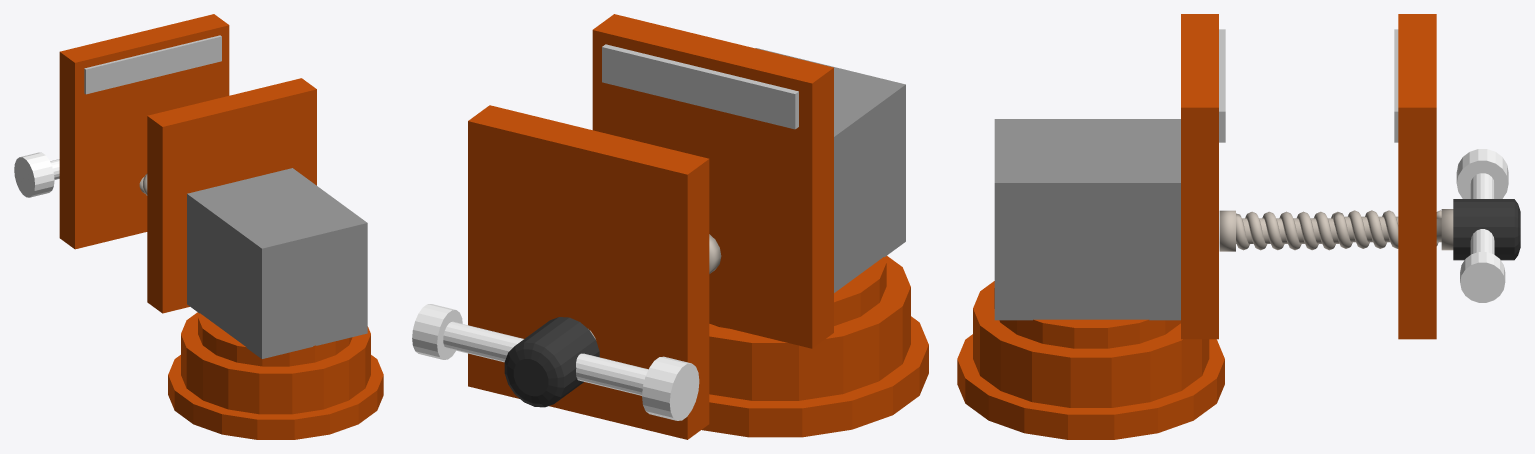
The model's file is prensa.fbx.
3 renders of one model, left to right at view 1: azimuth 30°, elevation 25°; view 2: azimuth 150°, elevation 25°; view 3: azimuth 270°, elevation 25°, orthographic. The views are drawn at different scales.
Visible parts, largest first — view 1: Prensa1, Prensa4, Prensa6, Prensa5, Prensa2; view 2: Prensa1, Prensa6, Prensa4, Prensa2, Prensa5, Prensa3; view 3: Prensa4, Prensa6, Prensa1, Prensa2, Prensa3, Prensa5.
Boxes of the visible parts, x1=… form: Prensa1: x1=59, y1=14, x2=316, y2=313; Prensa4: x1=187, y1=168, x2=367, y2=358; Prensa6: x1=168, y1=312, x2=383, y2=439; Prensa5: x1=84, y1=35, x2=221, y2=94; Prensa2: x1=14, y1=152, x2=147, y2=197; Prensa1: x1=468, y1=14, x2=833, y2=439; Prensa6: x1=702, y1=256, x2=928, y2=437; Prensa4: x1=755, y1=48, x2=905, y2=292; Prensa2: x1=412, y1=234, x2=721, y2=420; Prensa5: x1=602, y1=44, x2=798, y2=129; Prensa3: x1=504, y1=317, x2=599, y2=407; Prensa4: x1=994, y1=119, x2=1180, y2=320; Prensa6: x1=957, y1=281, x2=1224, y2=439; Prensa1: x1=1181, y1=14, x2=1436, y2=339; Prensa2: x1=1219, y1=149, x2=1508, y2=302; Prensa3: x1=1453, y1=199, x2=1520, y2=260; Prensa5: x1=1219, y1=29, x2=1398, y2=142.
Bounding box in the file's own units: 101 × 135 × 213.
